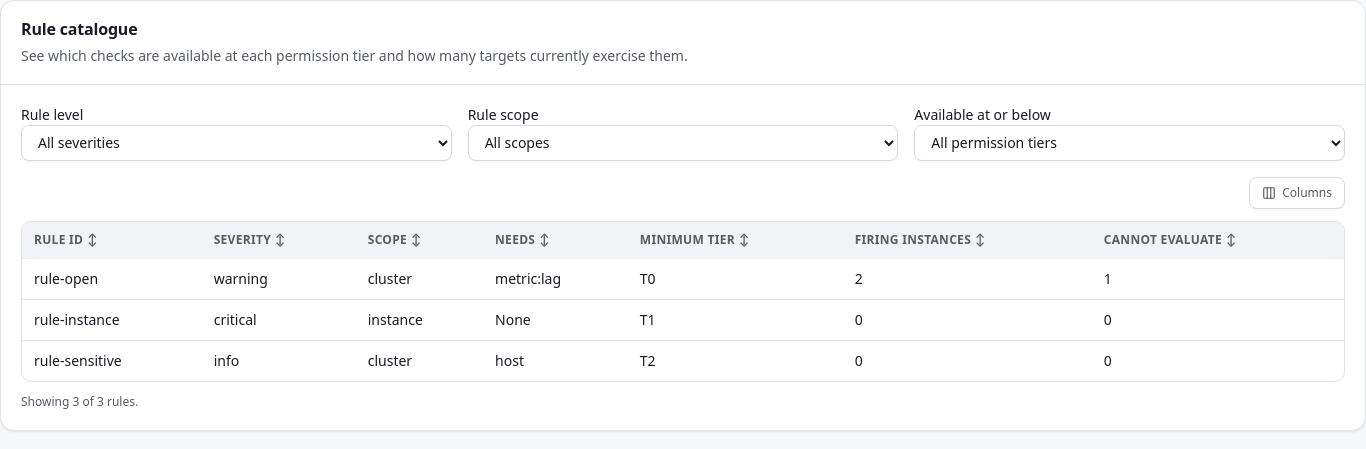
Test case: RuleCatalogue › UI-FIND-032 filtering by min_tier shows what a grant would unlock
Select "T1" in the dropdown labelled "Available at or below" at (1130, 143), box [914,125,1345,161]
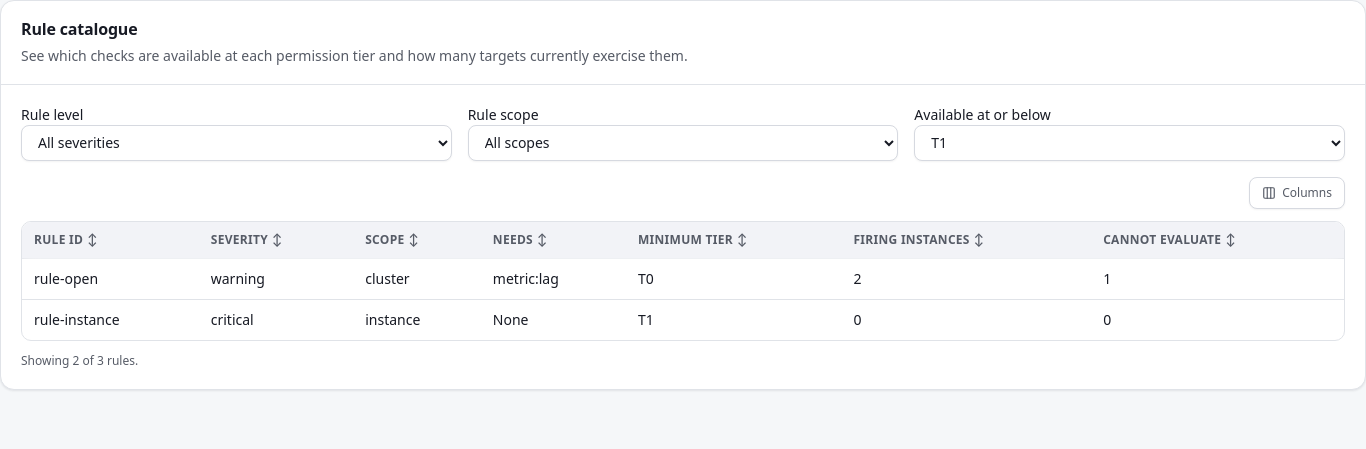
Expected: the text "rule-open" is shown, [22,259,199,299]
Expected: the text "rule-sensitive" is gone
